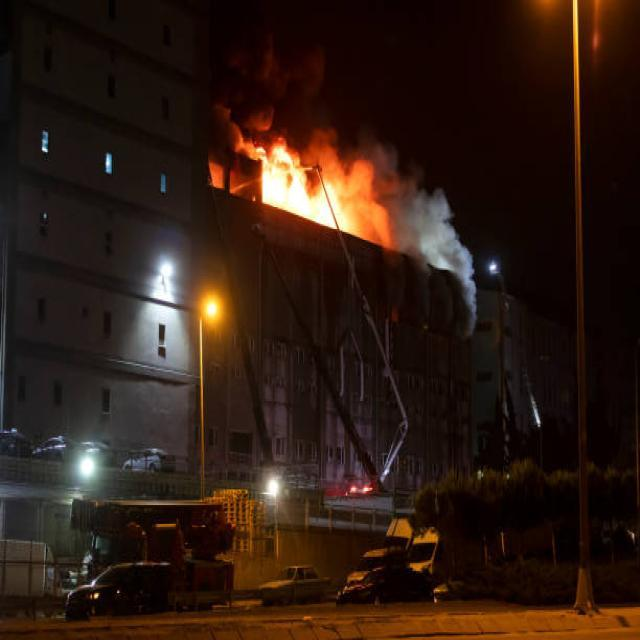Fire: (258, 141, 354, 230)
Smoke: (205, 21, 478, 338)
